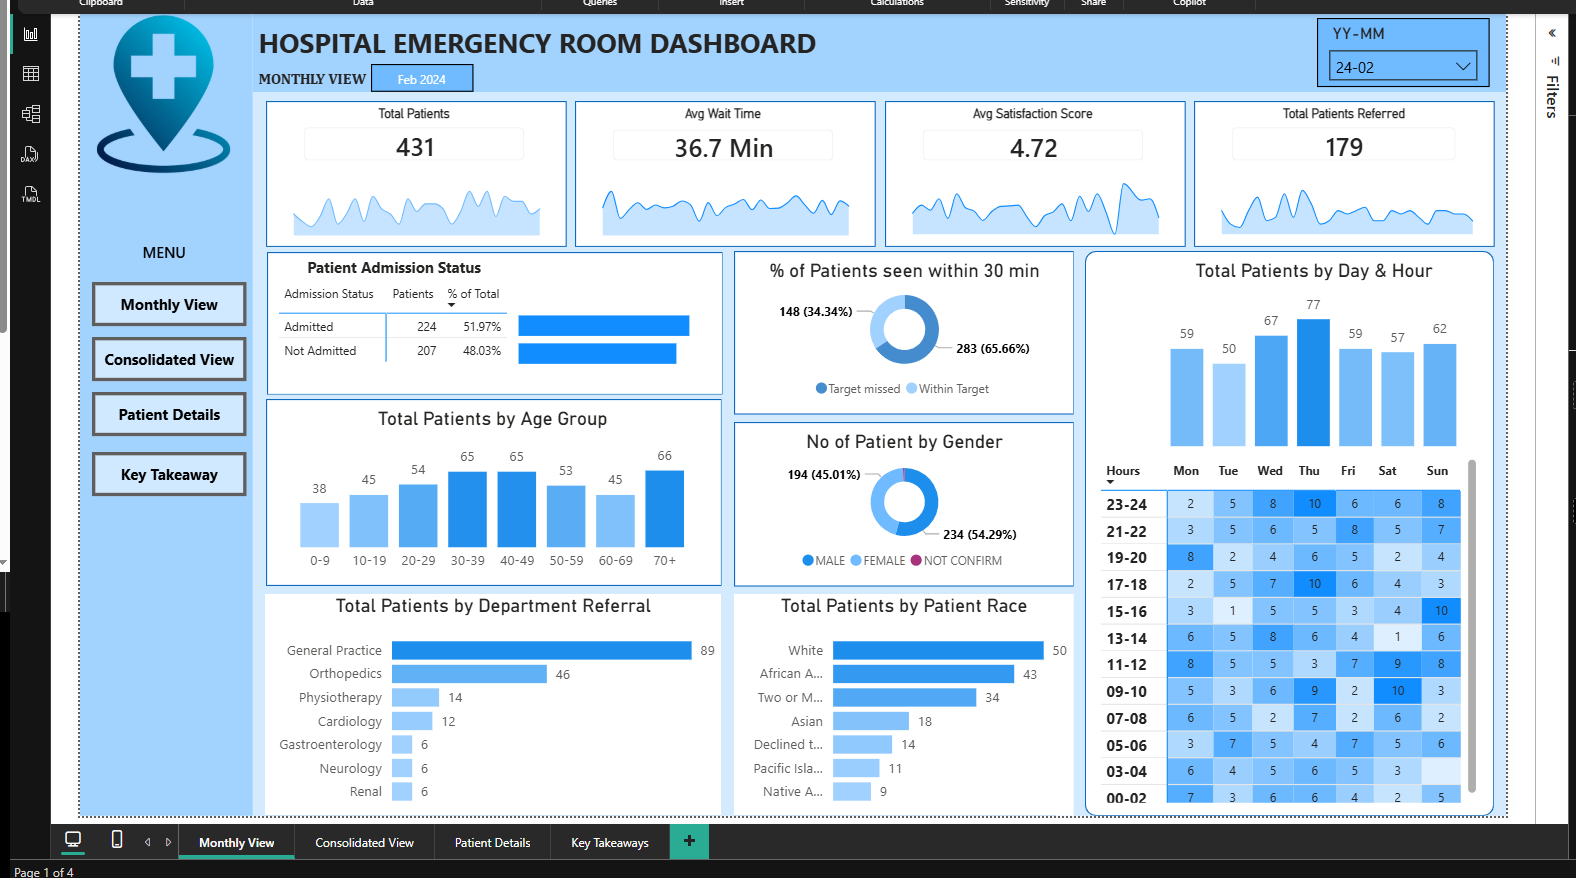

The page's visual inventory and layout, read from the dashboard file:
{"tool":"powerbi","page":{"name":"Monthly View","canvas":[1280,720],"ordinal":0},"visuals":[{"type":"shape","box":[0,0,155,719.8],"z":0},{"type":"actionButton","title":"Monthly View","box":[10.5,241.3,138.7,39.6],"z":0,"group":"g1"},{"type":"shape","box":[155,0,1125,70],"z":1000},{"type":"actionButton","title":"Monthly View","box":[10.5,290.3,138.7,39.6],"z":1000,"group":"g1"},{"type":"textbox","box":[155.3,3.6,590.7,47.6],"z":2000},{"type":"actionButton","title":"Monthly View","box":[10.5,340.4,138.7,39.6],"z":2000,"group":"g1"},{"type":"textbox","box":[155,44,136,34],"z":3000},{"type":"actionButton","title":"Monthly View","box":[10.5,394,138.7,39.6],"z":3000,"group":"g1"},{"type":"shape","box":[167,78.1,270,131.1],"z":4000,"group":"g3"},{"type":"shape","box":[444.5,78.1,270,131.1],"z":4000,"group":"g5"},{"type":"shape","box":[1000.1,78.1,270,131.1],"z":4000,"group":"g7"},{"type":"shape","box":[165.9,520.3,409.7,199.4],"z":4000},{"type":"shape","box":[722.8,78.1,270,131.1],"z":5000},{"type":"cardVisual","title":"Total Patients","fields":{"Data":["Measure.No of Patients"]},"box":[194.5,82.6,210.3,55.7],"z":5000,"group":"g3"},{"type":"cardVisual","title":"Avg Wait Time","fields":{"Data":["Measure.Avg Wait Time"]},"box":[472,82.6,210.3,55.7],"z":5000,"group":"g5"},{"type":"cardVisual","title":"Total Patients Referred","fields":{"Data":["Measure.Total Patients Referred"]},"box":[1028.1,82.6,213.9,55.7],"z":5000,"group":"g7"},{"type":"shape","box":[587.4,520.7,289.2,199.2],"z":5000},{"type":"textbox","box":[51.3,200.5,64.1,30.3],"z":5010,"group":"g9"},{"type":"group","id":"g1","title":"Group 1","box":[10.5,241.3,138.7,192.3],"z":5015,"group":"g9"},{"type":"shape","box":[587.4,213,305.5,146.9],"z":5500,"group":"g6"},{"type":"shape","box":[166.8,345.8,409.4,167.9],"z":5500,"group":"g2"},{"type":"shape","box":[587.4,366.2,305.5,147.8],"z":5500,"group":"g8"},{"type":"areaChart","fields":{"Y":["Measure.No of Patients"],"Category":["Date Table.Date"]},"box":[176.6,138.2,250.9,65.5],"z":6000,"group":"g3"},{"type":"areaChart","fields":{"Category":["Date Table.Date"],"Y":["Avg(Hospital_ER_Data.Patient Waittime)"]},"box":[454.1,138.2,250.9,65.5],"z":6000,"group":"g5"},{"type":"areaChart","fields":{"Category":["Date Table.Date"],"Y":["Measure.Total Patients Referred"]},"box":[1009.8,138.2,255.3,65.5],"z":6000,"group":"g7"},{"type":"shape","box":[902.4,213,367.3,507.3],"z":6000},{"type":"cardVisual","title":"Avg Satisfaction Score","fields":{"Data":["Measure.Avg Satisfaction Score"]},"box":[750.3,82.6,210.3,55.7],"z":7000},{"type":"areaChart","fields":{"Category":["Date Table.Date"],"Y":["Measure.Avg Satisfaction Score"]},"box":[732.4,138.3,250.9,65.5],"z":8000},{"type":"clusteredColumnChart","fields":{"Category":["Hospital_ER_Data.Age Group"],"Y":["Measure.Total Patients"]},"box":[174.8,353.1,390.7,155.9],"z":9000,"group":"g2"},{"type":"clusteredBarChart","fields":{"Y":["Measure.Total Patients"],"Category":["Hospital_ER_Data.Department Referral"]},"box":[165.9,520.3,409.7,199.4],"z":9000},{"type":"slicer","fields":{"Values":["Date Table.YY-MM"]},"box":[1110.5,3.6,155,61.6],"z":10000},{"type":"donutChart","title":"% of Patients seen within 30 min","fields":{"Category":["Hospital_ER_Data.Waittime Status"],"Y":["Measure.Total Patients"]},"box":[596.6,219.8,288.2,134],"z":10000,"group":"g6"},{"type":"donutChart","title":"No of Patient by Gender","fields":{"Y":["Measure.Total Patients"],"Category":["Hospital_ER_Data.Patient Gender"]},"box":[596.6,373.1,288.2,134.9],"z":10000,"group":"g8"},{"type":"cardVisual","fields":{"Data":["Min(Date Table.Month & Year)"]},"box":[261.2,44.9,91.6,25.1],"z":11000},{"type":"group","id":"g2","title":"Group 1","box":[166.8,345.8,409.7,167.7],"z":12000},{"type":"group","id":"g3","title":"Group 2","box":[167,78.1,270,131.1],"z":13000},{"type":"group","id":"g4","title":"Group 3","box":[167.8,213.3,435.8,128.4],"z":13000},{"type":"group","id":"g5","title":"Group 2","box":[444.5,78.1,270.2,131.1],"z":14000},{"type":"group","id":"g6","title":"Group 4","box":[587.4,213,305.5,146.9],"z":14000},{"type":"group","id":"g7","title":"Group 2","box":[1000.1,78.1,270,131.1],"z":15000},{"type":"group","id":"g8","title":"Group 4","box":[587.4,366.2,305.5,147.8],"z":15000},{"type":"clusteredBarChart","fields":{"Y":["Measure.Total Patients"],"Category":["Hospital_ER_Data.Patient Race"]},"box":[587.4,520.3,305.5,199.4],"z":16000},{"type":"pivotTable","fields":{"Rows":["Hospital_ER_Data.Waittime Interval"],"Columns":["Date Table.Day Name"],"Values":["Measure.Total Patients"]},"box":[911,394.3,348.1,319.1],"z":17000},{"type":"columnChart","title":"Total Patients by Day & Hour","fields":{"Category":["Date Table.Day Name"],"Y":["Measure.Total Patients"]},"box":[974.5,220.3,267.4,174.1],"z":18000},{"type":"image","box":[0,0.9,149.6,142.3],"z":19000},{"type":"shape","box":[167.8,213.3,409.4,128.4],"z":19000,"group":"g4"},{"type":"group","id":"g9","title":"Group 2","box":[10.5,200.5,138.7,233.2],"z":20000},{"type":"pivotTable","title":"Patient Admission Status","fields":{"Values":["Measure.Total Patients1","Measure.Total Patients"],"Rows":["Hospital_ER_Data.Admission Status"]},"box":[173,218,217.4,115.3],"z":20000,"group":"g4"},{"type":"clusteredBarChart","title":"Admission Status","fields":{"Category":["Hospital_ER_Data.Admission Status"],"Y":["Measure.Total Patients"]},"box":[388.2,251.7,215.4,73.8],"z":21000,"group":"g4"}]}

Visuals, with their boxes on the page's 1280x720 design canvas (x1, y1, x2, y2). These are canvas units, not pixel positions in the 1576x878 screenshot, which may show the page scaled, cropped or inside an application window:
shape: box(0, 0, 155, 720)
"Monthly View" actionButton: box(10, 241, 149, 281)
shape: box(155, 0, 1280, 70)
"Monthly View" actionButton: box(10, 290, 149, 330)
textbox: box(155, 4, 746, 51)
"Monthly View" actionButton: box(10, 340, 149, 380)
textbox: box(155, 44, 291, 78)
"Monthly View" actionButton: box(10, 394, 149, 434)
shape: box(167, 78, 437, 209)
shape: box(444, 78, 714, 209)
shape: box(1000, 78, 1270, 209)
shape: box(166, 520, 576, 720)
shape: box(723, 78, 993, 209)
"Total Patients" cardVisual: box(194, 83, 405, 138)
"Avg Wait Time" cardVisual: box(472, 83, 682, 138)
"Total Patients Referred" cardVisual: box(1028, 83, 1242, 138)
shape: box(587, 521, 877, 720)
textbox: box(51, 200, 115, 231)
"Group 1" group: box(10, 241, 149, 434)
shape: box(587, 213, 893, 360)
shape: box(167, 346, 576, 514)
shape: box(587, 366, 893, 514)
areaChart - Measure.No of Patients x Date Table.Date: box(177, 138, 428, 204)
areaChart - Date Table.Date x Avg(Hospital_ER_Data.Patient Waittime): box(454, 138, 705, 204)
areaChart - Date Table.Date x Measure.Total Patients Referred: box(1010, 138, 1265, 204)
shape: box(902, 213, 1270, 720)
"Avg Satisfaction Score" cardVisual: box(750, 83, 961, 138)
areaChart - Date Table.Date x Measure.Avg Satisfaction Score: box(732, 138, 983, 204)
clusteredColumnChart - Hospital_ER_Data.Age Group x Measure.Total Patients: box(175, 353, 566, 509)
clusteredBarChart - Measure.Total Patients x Hospital_ER_Data.Department Referral: box(166, 520, 576, 720)
slicer - Date Table.YY-MM: box(1110, 4, 1266, 65)
"% of Patients seen within 30 min" donutChart: box(597, 220, 885, 354)
"No of Patient by Gender" donutChart: box(597, 373, 885, 508)
cardVisual - Min(Date Table.Month & Year): box(261, 45, 353, 70)
"Group 1" group: box(167, 346, 576, 514)
"Group 2" group: box(167, 78, 437, 209)
"Group 3" group: box(168, 213, 604, 342)
"Group 2" group: box(444, 78, 715, 209)
"Group 4" group: box(587, 213, 893, 360)
"Group 2" group: box(1000, 78, 1270, 209)
"Group 4" group: box(587, 366, 893, 514)
clusteredBarChart - Measure.Total Patients x Hospital_ER_Data.Patient Race: box(587, 520, 893, 720)
pivotTable - Hospital_ER_Data.Waittime Interval x Date Table.Day Name: box(911, 394, 1259, 713)
"Total Patients by Day & Hour" columnChart: box(974, 220, 1242, 394)
image: box(0, 1, 150, 143)
shape: box(168, 213, 577, 342)
"Group 2" group: box(10, 200, 149, 434)
"Patient Admission Status" pivotTable: box(173, 218, 390, 333)
"Admission Status" clusteredBarChart: box(388, 252, 604, 326)
